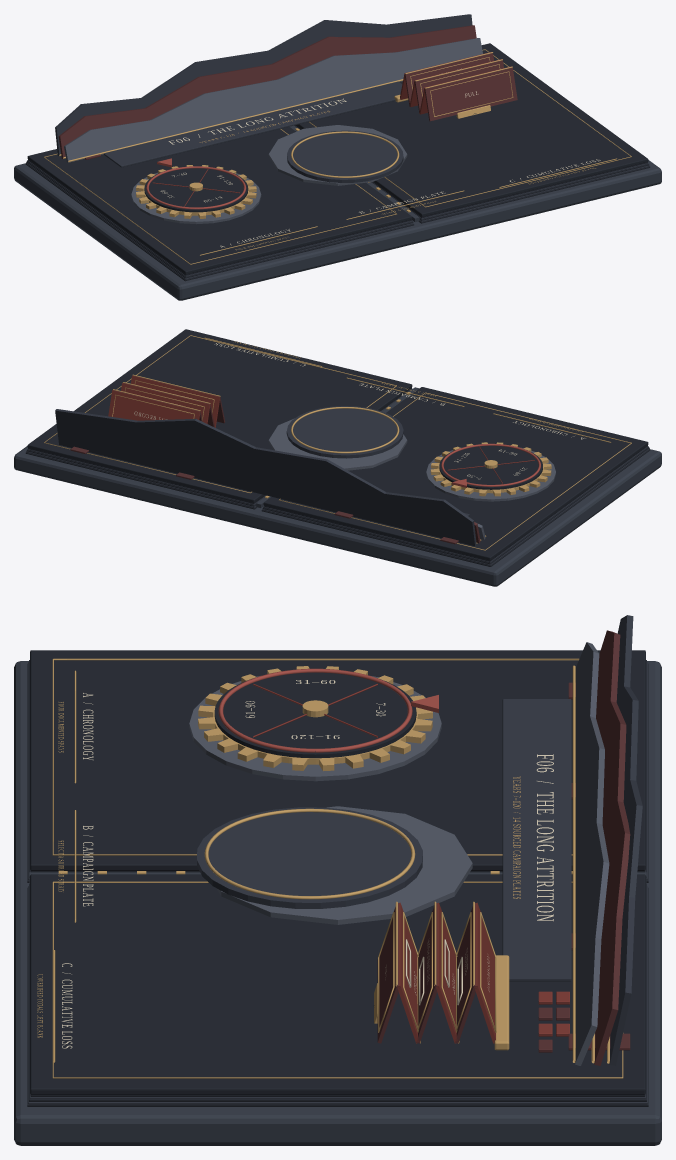
Rendered from palimpsest-f06.glb.
The picture shows the model from 3 angles, top to bottom: view 1: azimuth 30°, elevation 25°; view 2: azimuth 150°, elevation 25°; view 3: azimuth 270°, elevation 25°; orthographic projection. The views are drawn at different scales.
Parts seen in each view (by area): view 1: Black through-stock leaf.001, Black through-stock leaf, Charcoal book binding, Irregular cut horizon.002, Irregular cut horizon.001, Irregular cut horizon, Bonded heading backer, TouchTab_B_Cradle, Chronology pad, Die-cut leaf PULL, Stage footing, TouchTab_A_Wheel (+18 smaller); view 2: Black through-stock leaf, Irregular cut horizon, Black through-stock leaf.001, Charcoal book binding, TouchTab_B_Cradle, Chronology pad, Die-cut leaf LOSS RECORD, Stage footing, TouchTab_A_Wheel, Chronology footing, Die-cut leaf TOTALS, Die-cut leaf CRUST (+14 smaller); view 3: Black through-stock leaf.001, Black through-stock leaf, Charcoal book binding, Bonded heading backer, TouchTab_B_Cradle, Chronology pad, Irregular cut horizon.002, Irregular cut horizon.001, Stage footing, Irregular cut horizon, TouchTab_A_Wheel, Chronology footing (+18 smaller).
Boxes of the visible parts, box(x1,y1,x2,y2) form: Black through-stock leaf.001: box(296, 43, 648, 216); Black through-stock leaf: box(27, 126, 412, 274); Charcoal book binding: box(14, 160, 661, 300); Irregular cut horizon.002: box(64, 38, 482, 162); Irregular cut horizon.001: box(58, 25, 476, 158); Irregular cut horizon: box(55, 14, 472, 156); Bonded heading backer: box(103, 81, 402, 167); TouchTab_B_Cradle: box(287, 130, 403, 182); Chronology pad: box(144, 168, 248, 212); Die-cut leaf PULL: box(425, 67, 517, 121); Stage footing: box(268, 125, 407, 185); TouchTab_A_Wheel: box(136, 165, 256, 218); Black through-stock leaf: box(263, 387, 648, 560); Irregular cut horizon: box(55, 409, 476, 546); Black through-stock leaf.001: box(27, 329, 412, 502); Charcoal book binding: box(14, 446, 661, 586); TouchTab_B_Cradle: box(286, 406, 403, 458); Chronology pad: box(439, 445, 542, 489); Die-cut leaf LOSS RECORD: box(108, 390, 200, 420); Stage footing: box(268, 418, 407, 470); TouchTab_A_Wheel: box(430, 442, 551, 496); Chronology footing: box(426, 447, 555, 501); Die-cut leaf TOTALS: box(131, 375, 219, 427); Die-cut leaf CRUST: box(121, 383, 210, 423); Black through-stock leaf.001: box(30, 874, 645, 1094); Black through-stock leaf: box(30, 650, 645, 870); Charcoal book binding: box(14, 661, 661, 1145); Bonded heading backer: box(502, 699, 571, 981); TouchTab_B_Cradle: box(197, 807, 422, 908); Chronology pad: box(214, 672, 416, 758); Irregular cut horizon.002: box(575, 642, 609, 1065); Irregular cut horizon.001: box(594, 630, 630, 1065); Stage footing: box(216, 806, 472, 924); Irregular cut horizon: box(609, 615, 642, 1065); TouchTab_A_Wheel: box(198, 666, 432, 771); Chronology footing: box(189, 676, 441, 781).
Size of the model in its own units: 7.75 by 1.38 by 4.62.
